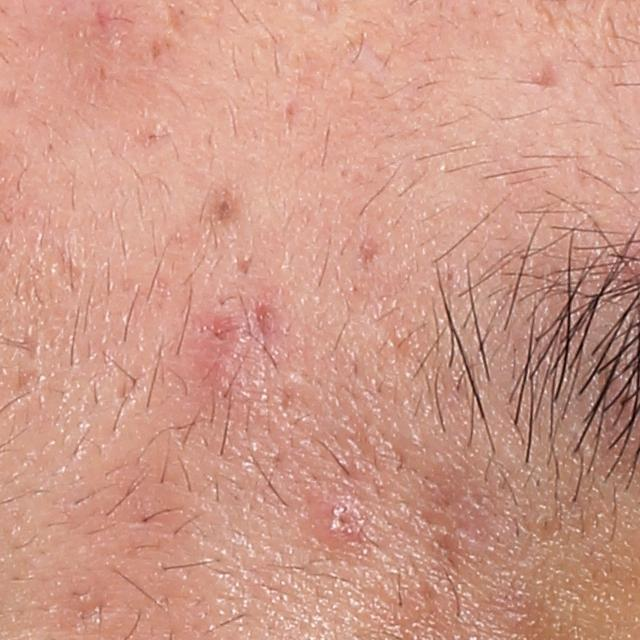atrophic_scar: (231, 250, 258, 279), (360, 232, 380, 265)
comedo: (207, 193, 235, 218)
papule: (321, 497, 371, 544)
